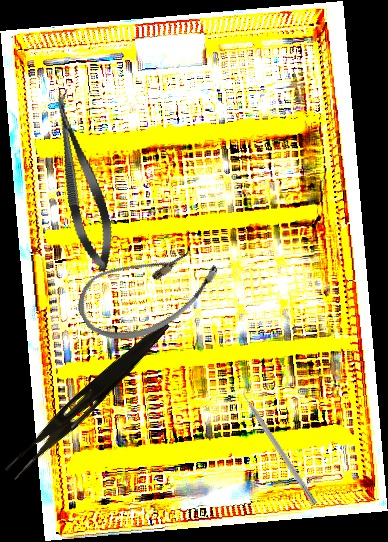Cannula: (67, 221, 229, 360)
Chopper: (236, 381, 324, 506)
Dressing Forceps: (3, 311, 174, 487)
Micro Scissor: (41, 86, 122, 276)
